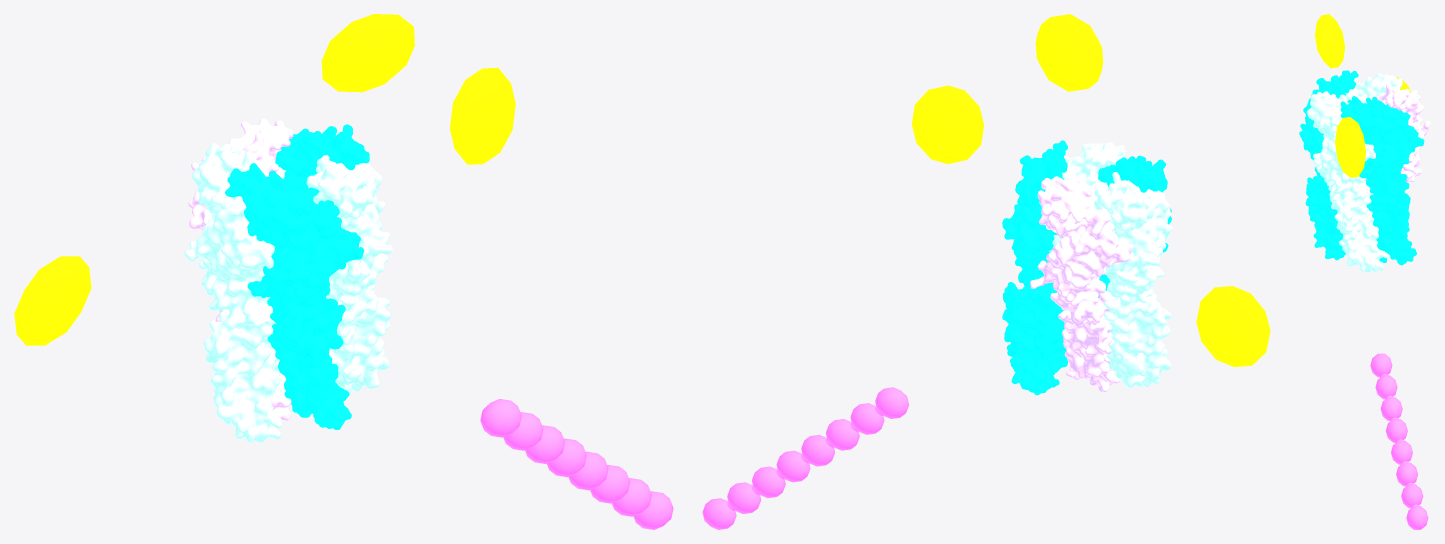
File: heart-micro-responding-1.glb
3 views of the same model, side by side, from view 1: azimuth 30°, elevation 25°; view 2: azimuth 150°, elevation 25°; view 3: azimuth 270°, elevation 25° (orthographic). The views are drawn at different scales.
Parts seen in each view (by area): view 1: Object_12, Object_6, Object_8, MisfoldedMonomer_2, MisfoldedMonomer_0, MisfoldedMonomer_1, Object_10, Object_4, AmyloidChain_0, AmyloidChain_6, AmyloidChain_7, AmyloidChain_1 (+4 smaller); view 2: Object_10, Object_6, Object_4, MisfoldedMonomer_1, MisfoldedMonomer_0, MisfoldedMonomer_2, Object_12, Object_8, AmyloidChain_0, AmyloidChain_4, AmyloidChain_1, AmyloidChain_2 (+4 smaller); view 3: Object_4, Object_8, Object_12, Object_10, MisfoldedMonomer_0, MisfoldedMonomer_2, Object_6, AmyloidChain_7, AmyloidChain_4, AmyloidChain_5, AmyloidChain_0, AmyloidChain_1 (+3 smaller).
Boxes of the visible parts, bbox=[...] form: Object_12: bbox=[225, 163, 364, 429]; Object_6: bbox=[184, 143, 281, 442]; Object_8: bbox=[306, 155, 393, 394]; MisfoldedMonomer_2: bbox=[321, 14, 414, 92]; MisfoldedMonomer_0: bbox=[450, 67, 515, 164]; MisfoldedMonomer_1: bbox=[14, 256, 91, 345]; Object_10: bbox=[188, 118, 293, 420]; Object_4: bbox=[275, 124, 369, 187]; AmyloidChain_0: bbox=[480, 399, 521, 437]; AmyloidChain_6: bbox=[612, 478, 651, 516]; AmyloidChain_7: bbox=[633, 491, 673, 529]; AmyloidChain_1: bbox=[503, 412, 543, 450]; Object_10: bbox=[1030, 174, 1133, 392]; Object_6: bbox=[1094, 172, 1172, 388]; Object_4: bbox=[1002, 140, 1069, 395]; MisfoldedMonomer_1: bbox=[1196, 286, 1270, 366]; MisfoldedMonomer_0: bbox=[912, 85, 984, 163]; MisfoldedMonomer_2: bbox=[1035, 14, 1103, 91]; Object_12: bbox=[1098, 155, 1171, 297]; Object_8: bbox=[1062, 142, 1126, 196]; AmyloidChain_0: bbox=[875, 387, 908, 418]; AmyloidChain_4: bbox=[776, 450, 810, 482]; AmyloidChain_1: bbox=[850, 403, 884, 434]; AmyloidChain_2: bbox=[826, 419, 859, 450]; Object_4: bbox=[1340, 96, 1424, 265]; Object_8: bbox=[1307, 91, 1389, 272]; Object_12: bbox=[1299, 70, 1358, 260]; Object_10: bbox=[1365, 83, 1430, 182]; MisfoldedMonomer_0: bbox=[1335, 117, 1366, 177]; MisfoldedMonomer_2: bbox=[1315, 14, 1344, 68]; Object_6: bbox=[1345, 73, 1402, 182]; AmyloidChain_7: bbox=[1406, 506, 1428, 529]; AmyloidChain_4: bbox=[1391, 440, 1412, 464]; AmyloidChain_5: bbox=[1396, 462, 1417, 486]; AmyloidChain_0: bbox=[1370, 353, 1392, 377]; AmyloidChain_1: bbox=[1375, 375, 1397, 399].
Size of the model in its own units: 4.67 by 4.36 by 1.28.
